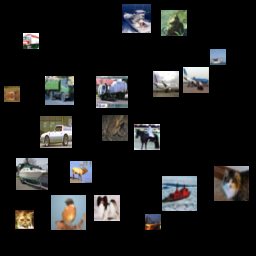airplane: (153, 71, 179, 97), (183, 67, 209, 93), (145, 214, 161, 230)
automobile: (40, 116, 72, 148)
bird: (51, 195, 86, 230)
cat: (214, 166, 249, 201), (15, 210, 34, 229)
deer: (70, 161, 92, 183), (4, 86, 20, 102)
dog: (94, 195, 120, 221)
frog: (102, 115, 128, 141), (161, 10, 187, 36)
ship: (162, 176, 197, 211), (16, 158, 48, 190), (122, 4, 151, 33), (210, 49, 226, 65)
